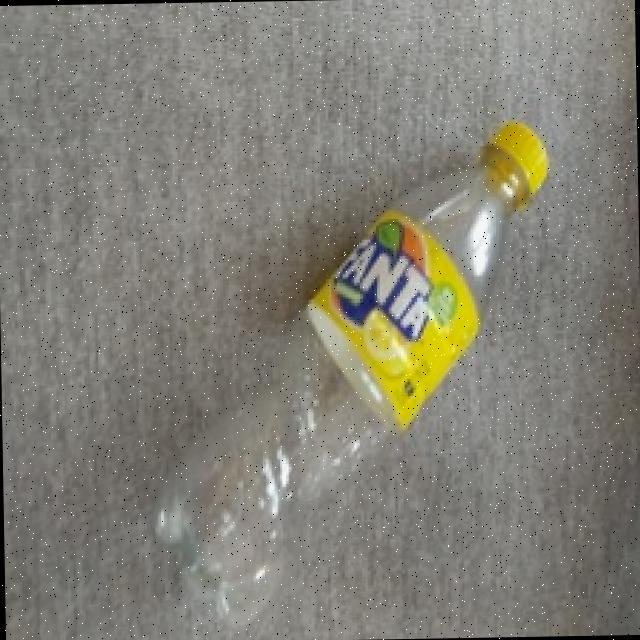bottle: (125, 99, 574, 636)
cap: (488, 120, 549, 196)
label: (299, 208, 499, 432)
